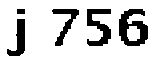5: (84, 6, 113, 48)
6: (116, 5, 151, 48)
7: (48, 6, 79, 48)
j: (2, 4, 31, 58)
